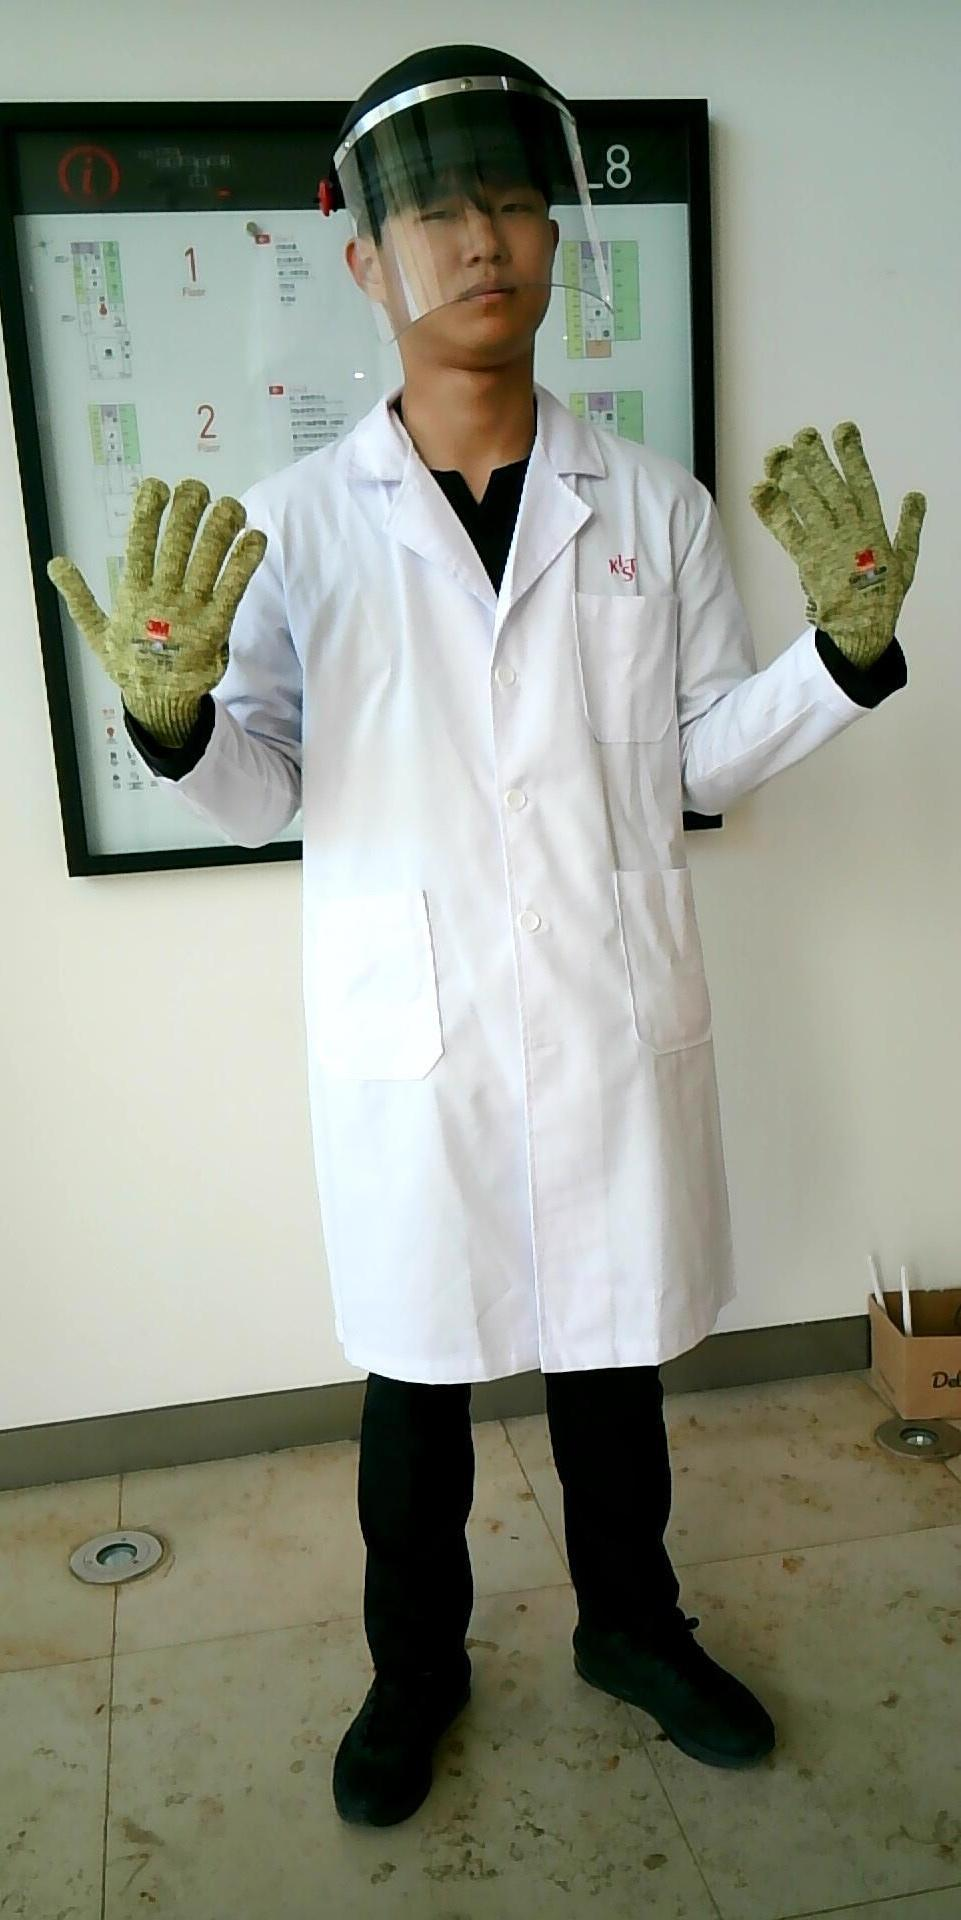lab_coat: (264, 494, 721, 1366)
